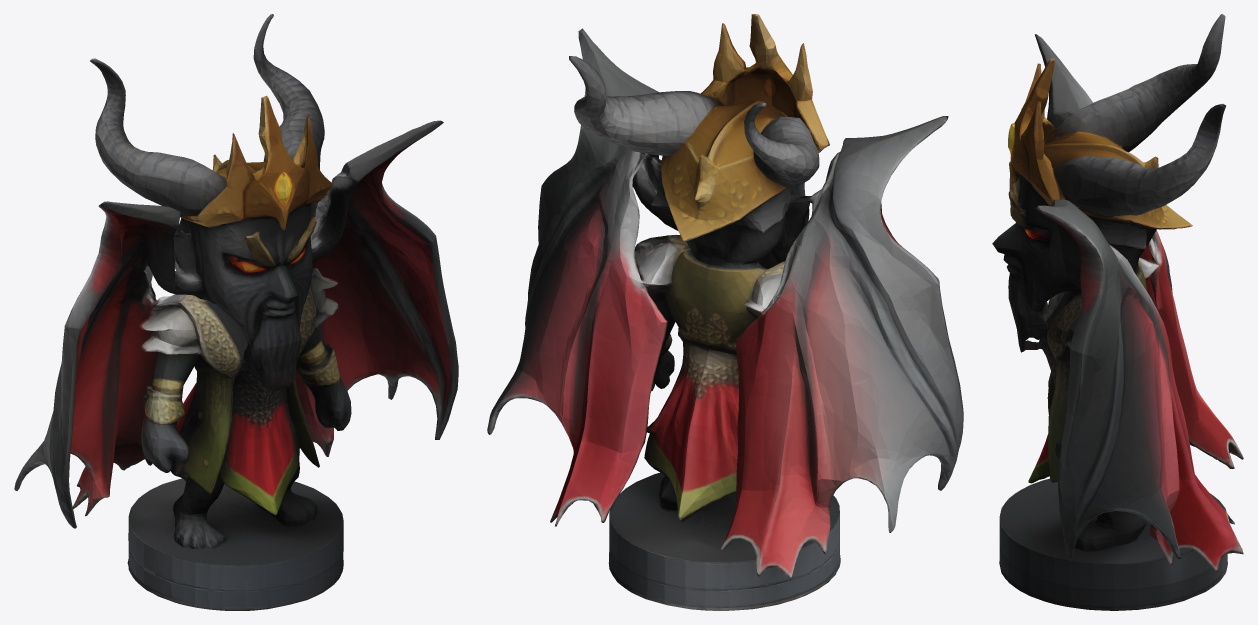
The model's file is DemonKingBossEnemy.glb.
3 views of the same model, side by side, from view 1: azimuth 30°, elevation 25°; view 2: azimuth 150°, elevation 25°; view 3: azimuth 270°, elevation 25° (orthographic). The views are drawn at different scales.
Size of the model in its own units: 85.28 by 100 by 45.18.
1 material, 1 textured.
